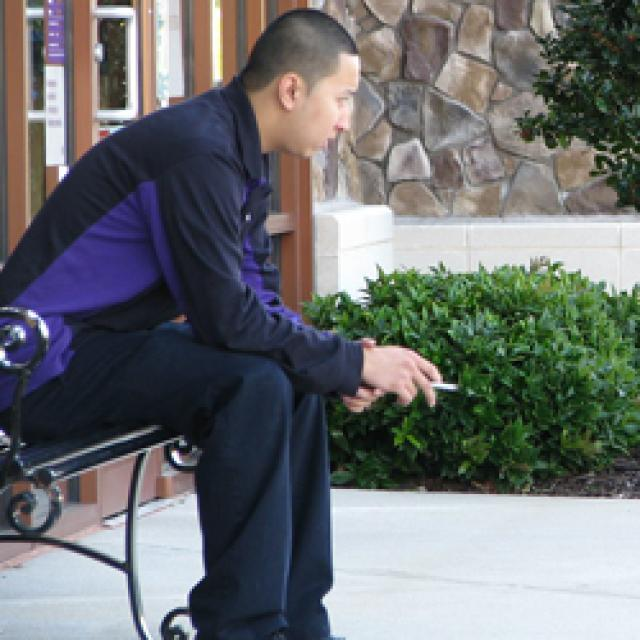Smooking: (426, 377, 460, 398)
